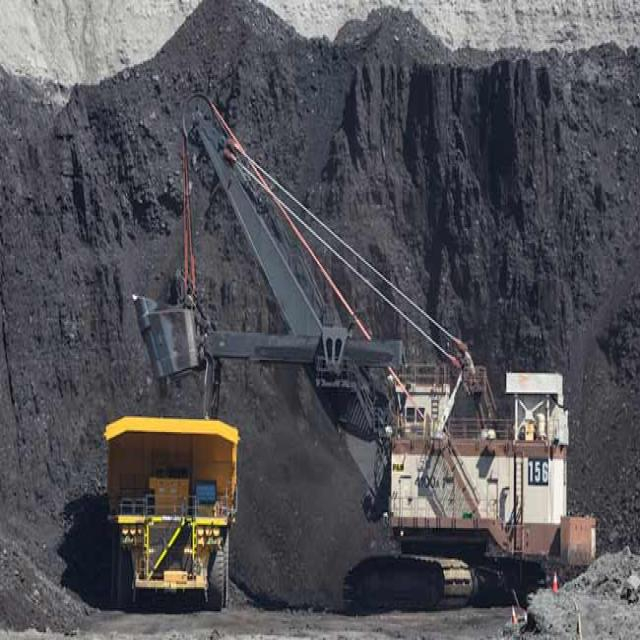dump_truck: (101, 408, 246, 606)
excavator: (130, 97, 598, 622)
